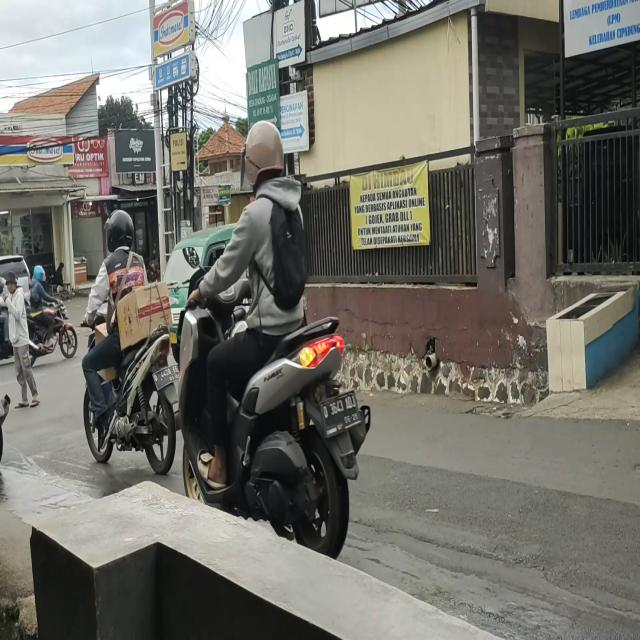helmet: (244, 121, 284, 182), (106, 209, 138, 260), (33, 266, 47, 288)
